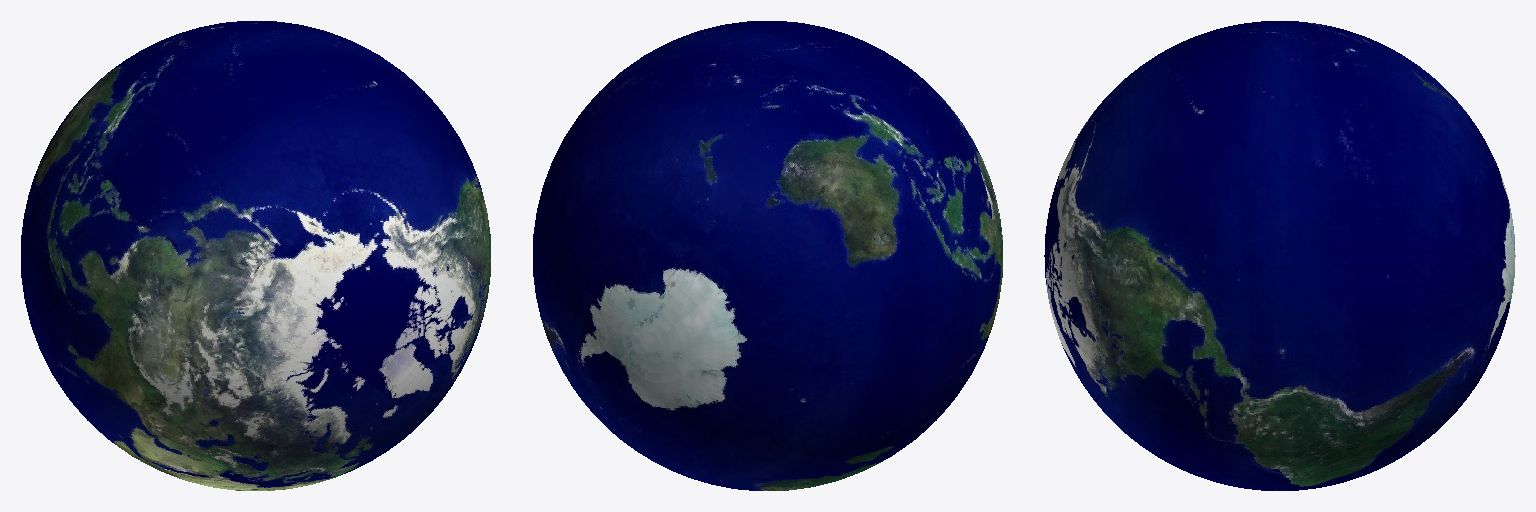
The picture shows the model from 3 angles: view 1: azimuth 30°, elevation 25°; view 2: azimuth 150°, elevation 25°; view 3: azimuth 270°, elevation 25°; orthographic projection.
Parts seen in each view (by area): view 1: Plane_Plane.001; view 2: Plane_Plane.001; view 3: Plane_Plane.001.
Boxes of the visible parts, box(x1,y1,x2,y2) form: Plane_Plane.001: box(21, 21, 490, 490); Plane_Plane.001: box(533, 21, 1002, 490); Plane_Plane.001: box(1044, 21, 1515, 490).
Bounding box in the file's own units: 1.27 × 1.27 × 1.27.
1 materials, 1 textured.